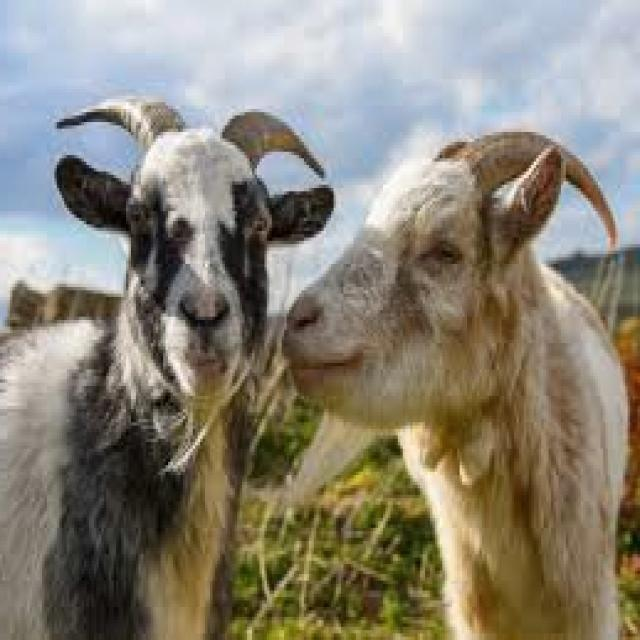goat: (2, 99, 336, 637), (287, 132, 628, 637)
